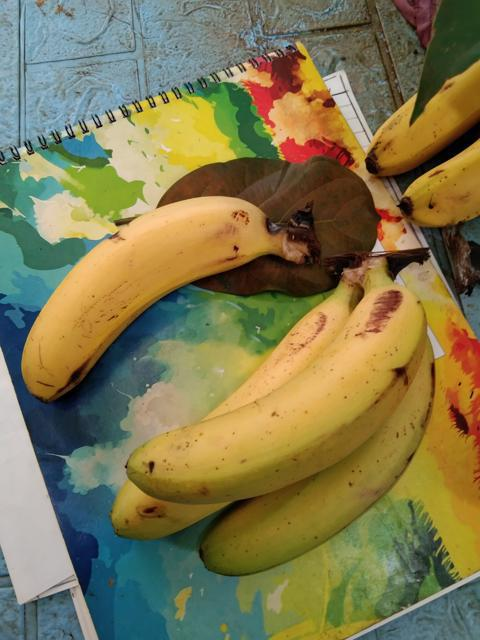ripe: (127, 275, 419, 504), (10, 192, 264, 391)
